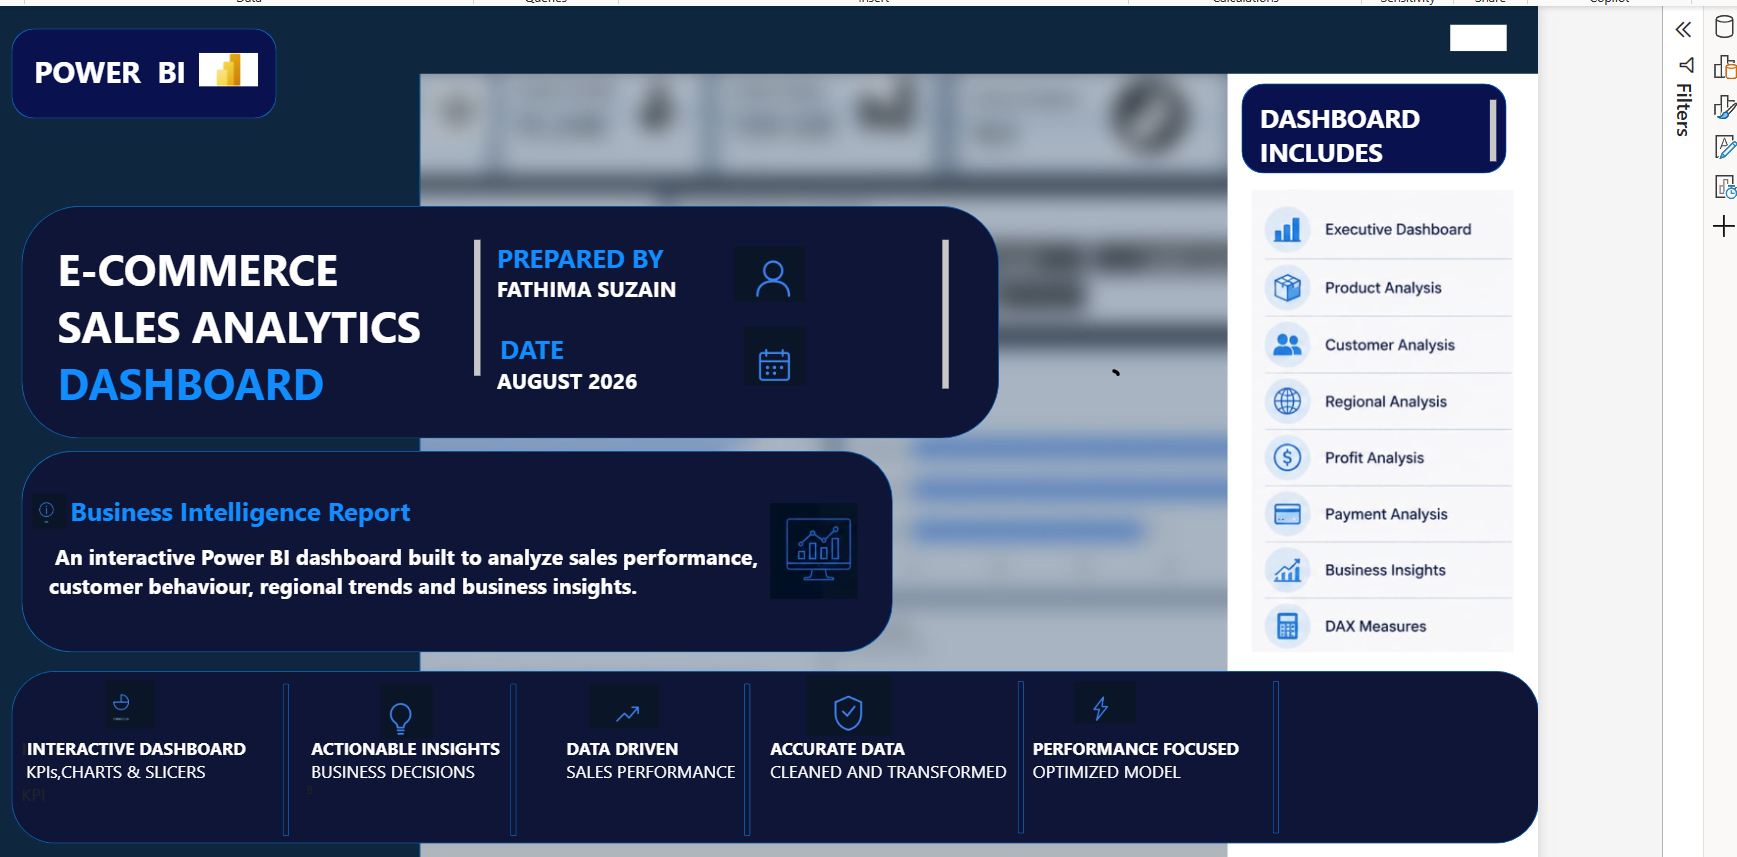

What the dashboard file says about the page in this screenshot:
{"tool":"powerbi","page":{"name":"Page 1","canvas":[1920,1080],"ordinal":0},"visuals":[{"type":"shape","box":[0,0,525.3,1063.2],"z":0},{"type":"shape","box":[1532.4,0,388.3,1080.4],"z":1000},{"type":"shape","box":[0,0,1920,84.5],"z":2000},{"type":"shape","box":[15.6,829.3,1905,215.1],"z":3000},{"type":"shape","box":[1549.5,96.7,330.5,112.2],"z":4000},{"type":"textbox","box":[1572.9,116.9,294.6,81.1],"z":5000},{"type":"shape","box":[28.1,249.4,1219.1,290],"z":6000},{"type":"textbox","box":[43.6,291.5,556.5,240.1],"z":7000},{"type":"shape","box":[15.6,28.1,330.5,112.2],"z":8000},{"type":"textbox","box":[620.4,291.5,564.3,188.6],"z":9000},{"type":"shape","box":[28.1,555,1086.6,251],"z":10000},{"type":"textbox","box":[62.4,608,996.1,145],"z":11000},{"type":"image","box":[4.7,608,115.4,43.6],"z":12000},{"type":"image","box":[929.1,386.6,77.9,99.8],"z":13000},{"type":"image","box":[916.6,274.4,88.9,120],"z":14000},{"type":"image","box":[961.8,606.4,109.1,146.5],"z":15000},{"type":"textbox","box":[28.1,910.4,333.6,92],"z":16000},{"type":"textbox","box":[383.5,910.4,279,77.9],"z":17000},{"type":"textbox","box":[707.7,910.4,286.8,57.7],"z":18000},{"type":"textbox","box":[961.8,910.4,389.7,57.7],"z":19000},{"type":"textbox","box":[1289.2,910.4,336.7,77.9],"z":20000},{"type":"shape","box":[353.9,844.9,7.8,190.2],"z":21000},{"type":"shape","box":[637.6,844.9,7.8,190.2],"z":22000},{"type":"shape","box":[929.1,844.9,7.8,190.2],"z":23000},{"type":"shape","box":[1270.5,841.8,7.8,190.2],"z":24000},{"type":"shape","box":[1588.5,841.8,7.8,190.2],"z":25000},{"type":"textbox","box":[28.1,56.1,294.6,60.8],"z":26000},{"type":"textbox","box":[43.6,56.1,193.3,60.8],"z":27000},{"type":"image","box":[1549.5,229.2,352.3,576.8],"z":28000},{"type":"image","box":[455.2,844.9,106,68.6],"z":29000},{"type":"image","box":[120,840.2,87.3,60.8],"z":30000},{"type":"image","box":[723.3,844.9,112.2,56.1],"z":31000},{"type":"image","box":[1007,801.3,107.6,141.9],"z":32000},{"type":"image","box":[1340.7,806,77.9,124.7],"z":33000},{"type":"image","box":[249.4,23.4,73.3,112.2],"z":34000},{"type":"actionButton","box":[1809.9,23.4,70.2,32.7],"z":35000}]}

Visuals, with their boxes on the page's 1920x1080 design canvas (x1, y1, x2, y2). These are canvas units, not pixel positions in the 1737x857 screenshot, which may show the page scaled, cropped or inside an application window:
shape: x1=0, y1=0, x2=525, y2=1063
shape: x1=1532, y1=0, x2=1921, y2=1080
shape: x1=0, y1=0, x2=1920, y2=84
shape: x1=16, y1=829, x2=1921, y2=1044
shape: x1=1550, y1=97, x2=1880, y2=209
textbox: x1=1573, y1=117, x2=1868, y2=198
shape: x1=28, y1=249, x2=1247, y2=539
textbox: x1=44, y1=292, x2=600, y2=532
shape: x1=16, y1=28, x2=346, y2=140
textbox: x1=620, y1=292, x2=1185, y2=480
shape: x1=28, y1=555, x2=1115, y2=806
textbox: x1=62, y1=608, x2=1058, y2=753
image: x1=5, y1=608, x2=120, y2=652
image: x1=929, y1=387, x2=1007, y2=486
image: x1=917, y1=274, x2=1006, y2=394
image: x1=962, y1=606, x2=1071, y2=753
textbox: x1=28, y1=910, x2=362, y2=1002
textbox: x1=384, y1=910, x2=662, y2=988
textbox: x1=708, y1=910, x2=994, y2=968
textbox: x1=962, y1=910, x2=1352, y2=968
textbox: x1=1289, y1=910, x2=1626, y2=988
shape: x1=354, y1=845, x2=362, y2=1035
shape: x1=638, y1=845, x2=645, y2=1035
shape: x1=929, y1=845, x2=937, y2=1035
shape: x1=1270, y1=842, x2=1278, y2=1032
shape: x1=1588, y1=842, x2=1596, y2=1032
textbox: x1=28, y1=56, x2=323, y2=117
textbox: x1=44, y1=56, x2=237, y2=117
image: x1=1550, y1=229, x2=1902, y2=806
image: x1=455, y1=845, x2=561, y2=914
image: x1=120, y1=840, x2=207, y2=901
image: x1=723, y1=845, x2=836, y2=901
image: x1=1007, y1=801, x2=1115, y2=943
image: x1=1341, y1=806, x2=1419, y2=931
image: x1=249, y1=23, x2=323, y2=136
actionButton: x1=1810, y1=23, x2=1880, y2=56
